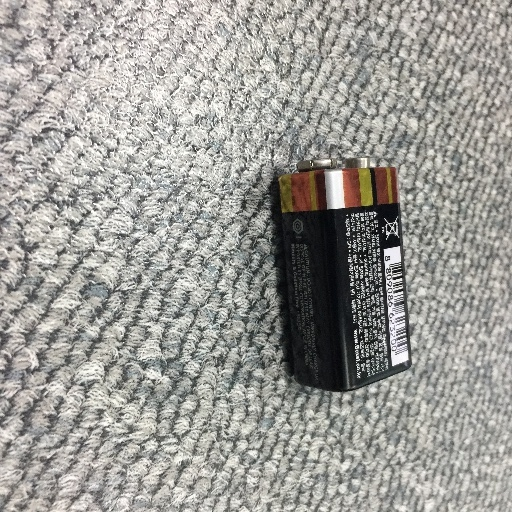Battery_3: (267, 145, 445, 405)
